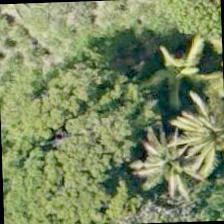Kelapa_Sawit: (127, 122, 220, 216), (132, 28, 224, 122), (176, 93, 223, 187)
